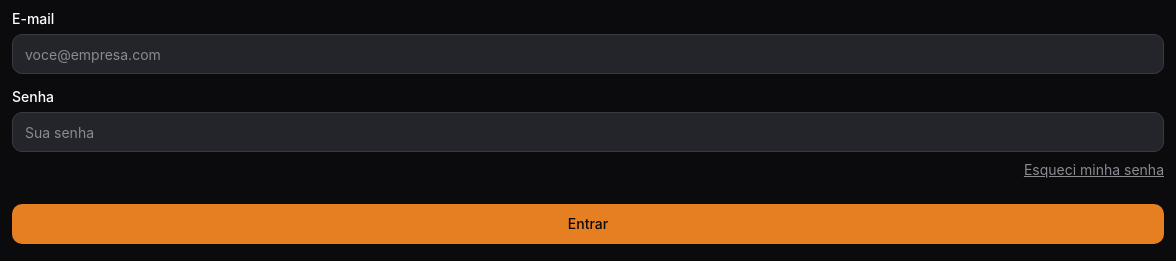
Test: LoginForm › desabilita o botão e mostra o spinner enquanto a requisição está pendente
Type "ana@claudequest.dev" into the field labelled "E-mail" at [588, 54], box [12, 34, 1164, 74]
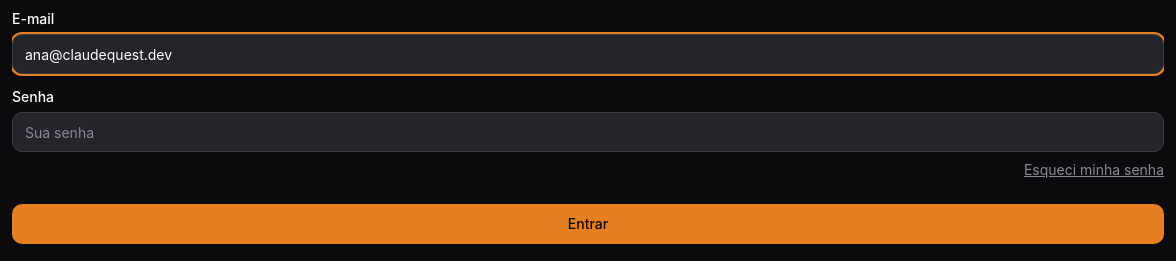
Type "senha-correta" into the password field labelled "Senha" at [588, 132], box [12, 112, 1164, 152]
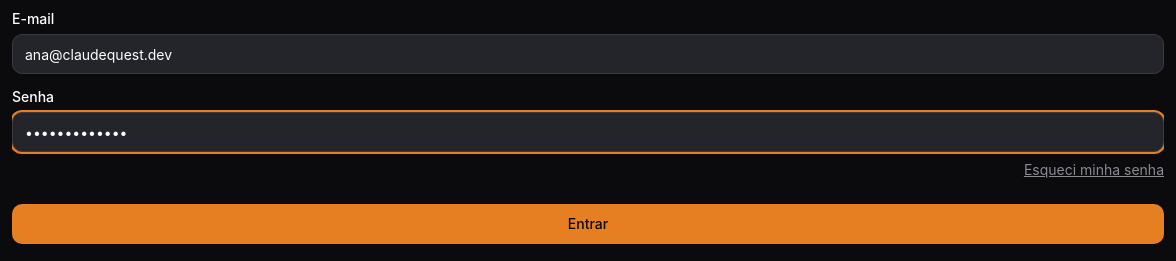
Click the button "Entrar" at [588, 224], box [12, 204, 1164, 244]
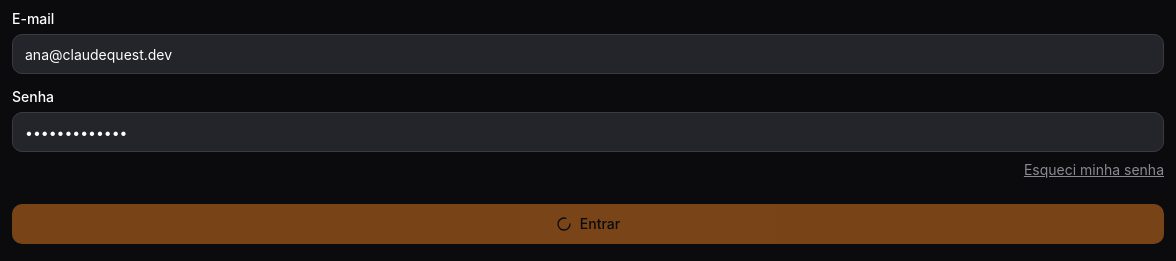
Now the button "Entrar" is disabled, box [12, 204, 1164, 244]
